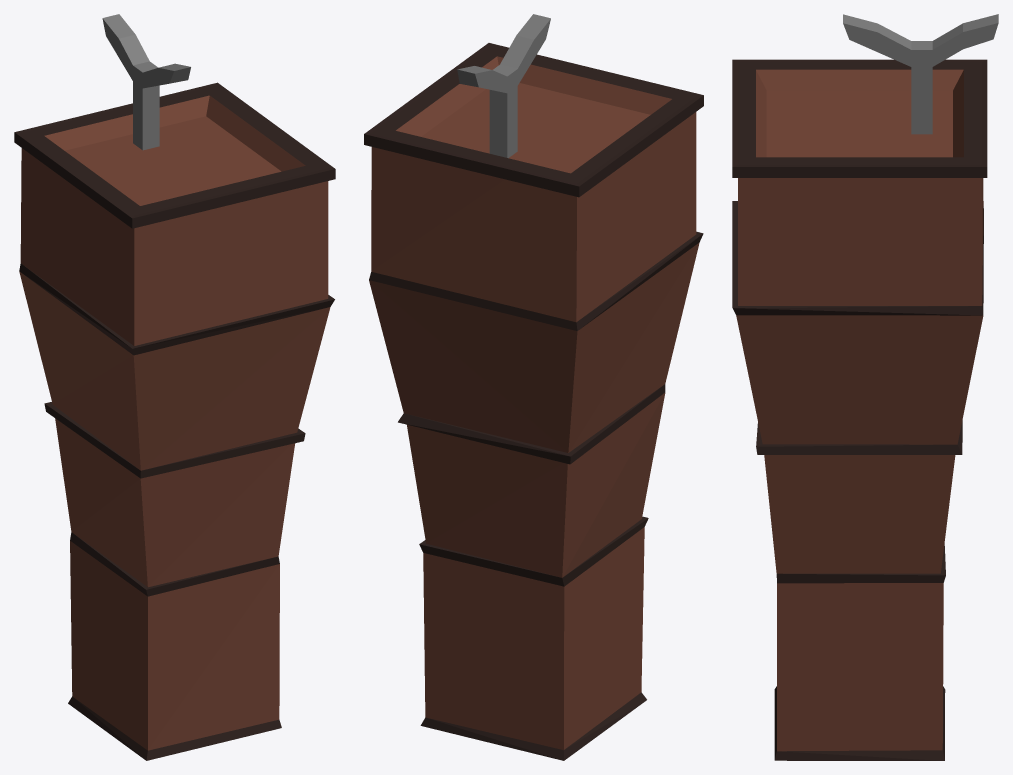
File: building1.fbx
The picture shows the model from 3 angles, left to right: view 1: azimuth 30°, elevation 25°; view 2: azimuth 150°, elevation 25°; view 3: azimuth 270°, elevation 25°; orthographic projection. The views are drawn at different scales.
Visible parts, largest first — view 1: brown building; view 2: brown building; view 3: brown building.
Part boxes in pixels (x1,y1,x2,y2): brown building: (14, 14, 335, 760); brown building: (364, 14, 703, 760); brown building: (732, 14, 998, 760).
Size of the model in its own units: 1249 by 3833 by 1310.
